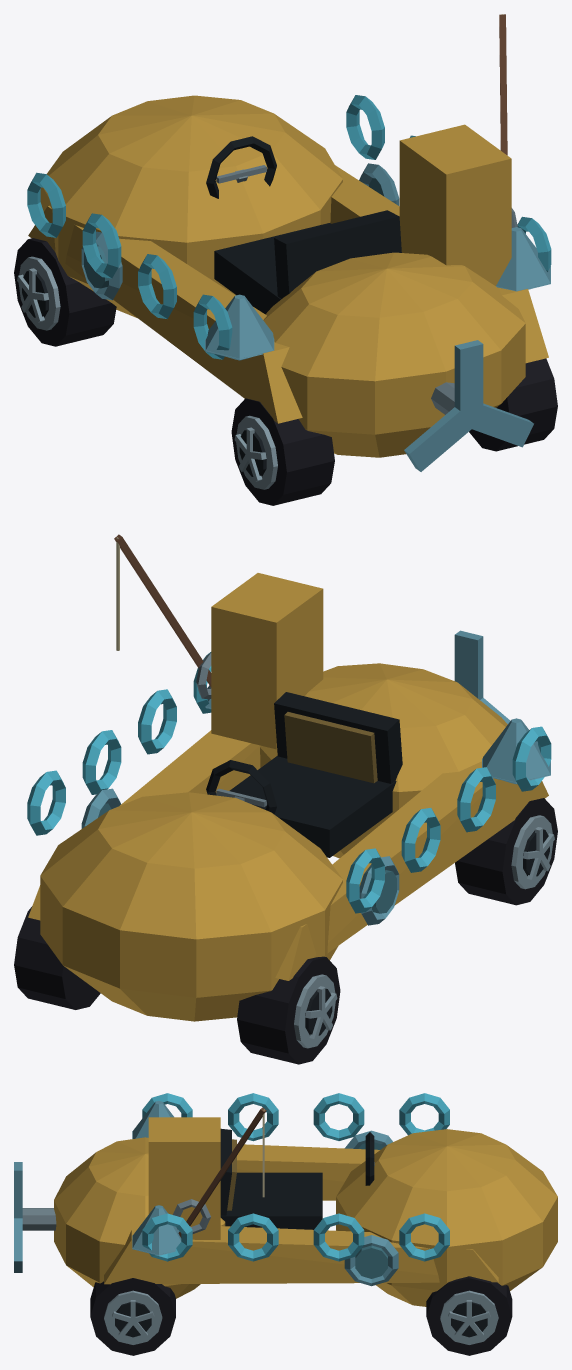
Rendered from kart.glb.
3 views of the same model, one above another, from view 1: azimuth 30°, elevation 25°; view 2: azimuth 150°, elevation 25°; view 3: azimuth 270°, elevation 25° (orthographic). The views are drawn at different scales.
Visible parts, largest first — view 1: identity-submarine-submarine-rounded-bow-and-stern-propeller, identity-submarine-driver-cockpit, identity-submarine-motif-water, wheel-rear-left, wheel-front-left, identity-submarine-motif-gems, wheel-rear-right, identity-submarine-motif-fishing; view 2: identity-submarine-submarine-rounded-bow-and-stern-propeller, identity-submarine-driver-cockpit, identity-submarine-motif-water, wheel-front-left, wheel-rear-left, wheel-front-right, identity-submarine-motif-gems, identity-submarine-motif-fishing; view 3: identity-submarine-submarine-rounded-bow-and-stern-propeller, identity-submarine-motif-water, identity-submarine-driver-cockpit, wheel-front-right, wheel-rear-right, identity-submarine-motif-gems, identity-submarine-motif-fishing.
Boxes of the visible parts, left/top/right/bottom form: identity-submarine-submarine-rounded-bow-and-stern-propeller: left=28, top=95, right=548, bottom=471; identity-submarine-driver-cockpit: left=206, top=136, right=401, bottom=314; identity-submarine-motif-water: left=27, top=95, right=551, bottom=359; wheel-rear-left: left=231, top=398, right=334, bottom=505; wheel-front-left: left=14, top=238, right=116, bottom=346; identity-submarine-motif-gems: left=205, top=227, right=550, bottom=360; wheel-rear-right: left=469, top=358, right=557, bottom=451; identity-submarine-motif-fishing: left=499, top=14, right=517, bottom=227; identity-submarine-submarine-rounded-bow-and-stern-propeller: left=28, top=573, right=548, bottom=1021; identity-submarine-driver-cockpit: left=206, top=692, right=402, bottom=857; identity-submarine-motif-water: left=27, top=652, right=551, bottom=913; wheel-front-left: left=237, top=956, right=340, bottom=1064; wheel-rear-left: left=455, top=798, right=557, bottom=905; wheel-front-right: left=14, top=906, right=100, bottom=1009; identity-submarine-motif-gems: left=205, top=685, right=550, bottom=784; identity-submarine-motif-fishing: left=114, top=534, right=211, bottom=698; identity-submarine-submarine-rounded-bow-and-stern-propeller: left=14, top=1117, right=557, bottom=1306; identity-submarine-motif-water: left=142, top=1093, right=449, bottom=1261; identity-submarine-driver-cockpit: left=220, top=1128, right=374, bottom=1229; wheel-front-right: left=426, top=1276, right=512, bottom=1355; wheel-rear-right: left=90, top=1278, right=175, bottom=1355; identity-submarine-motif-gems: left=132, top=1101, right=181, bottom=1255; identity-submarine-motif-fishing: left=173, top=1107, right=266, bottom=1237.
Size of the model in its own units: 1.92 by 1.73 by 3.17.
